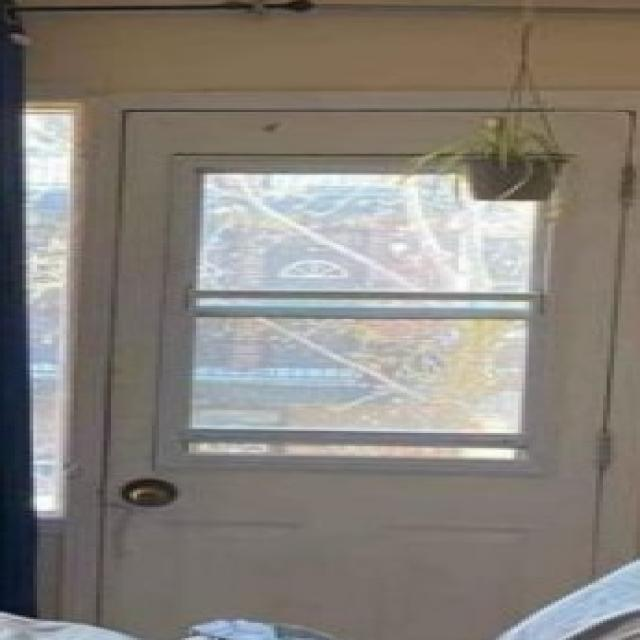door-knob: (122, 479, 178, 506)
